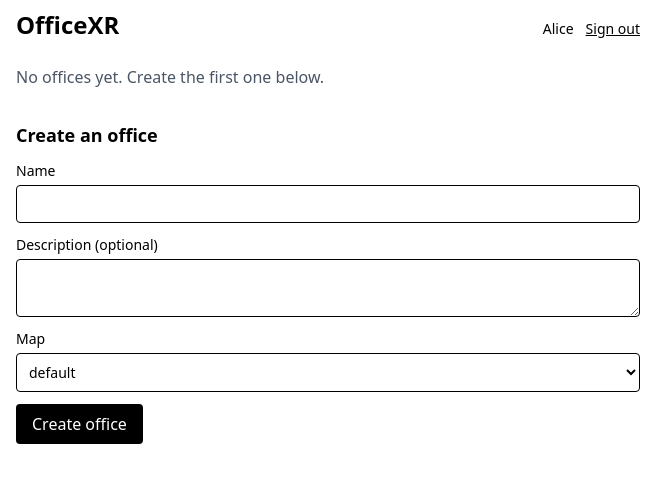
Scenario: Home › shows the server's error when creating fails
In the field labelled "Name": (328, 204) [16, 185, 640, 223], type "Lab"
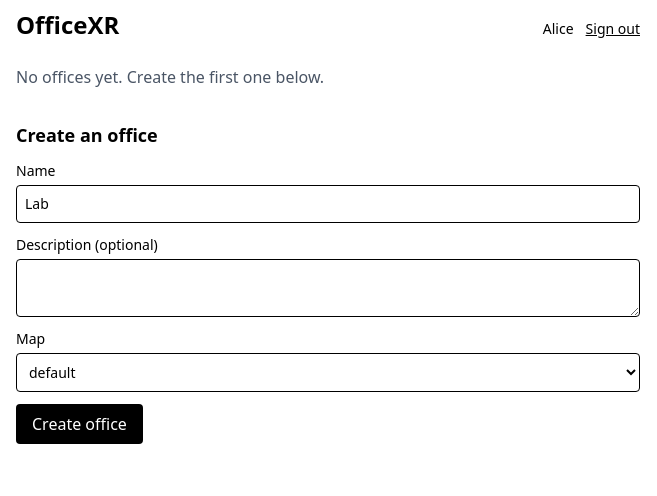
Click the button "Create office": (79, 424) [16, 404, 143, 444]
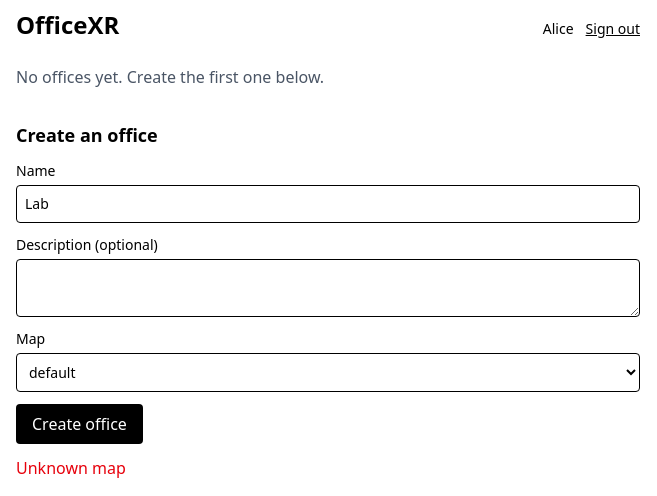
Expected: the text "Unknown map" is shown, [16, 457, 126, 479]
